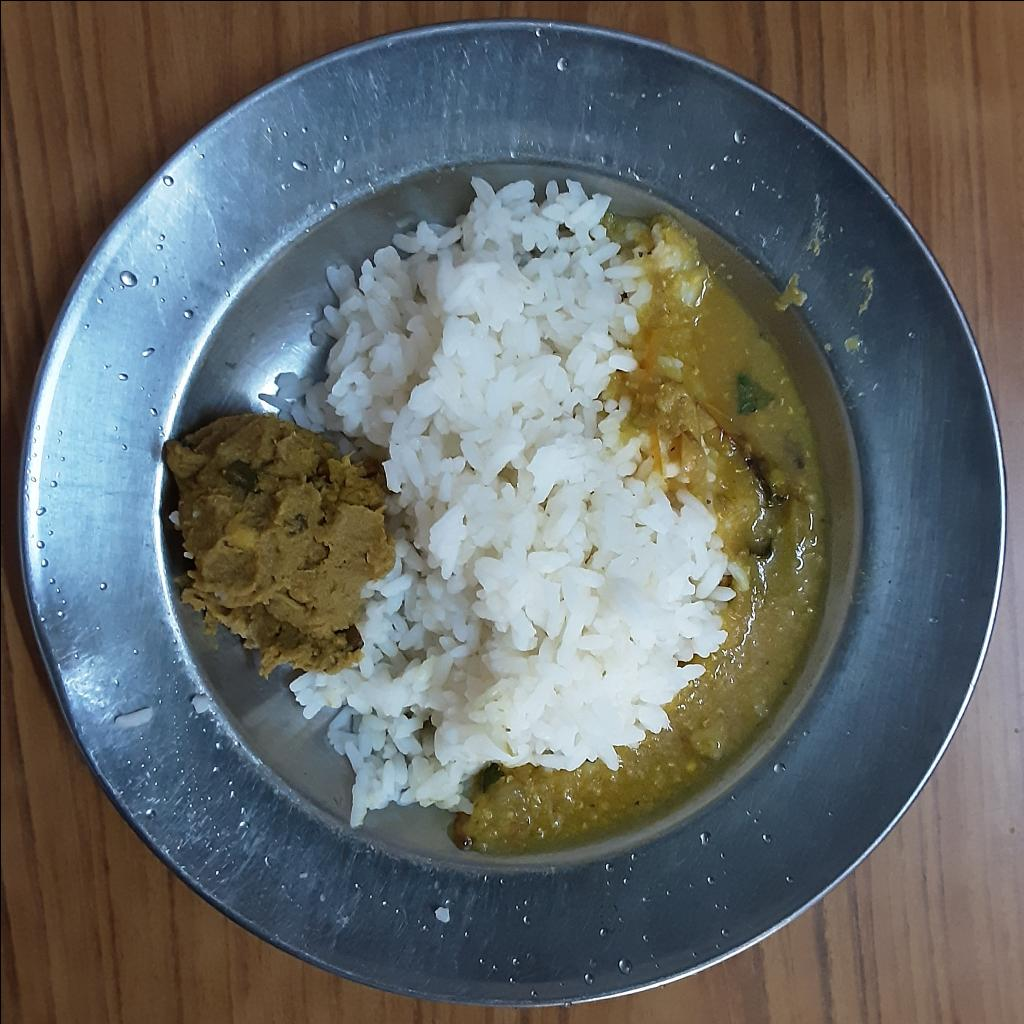daal: (452, 214, 836, 858)
rice: (250, 169, 751, 829)
vorta: (165, 412, 393, 678)
